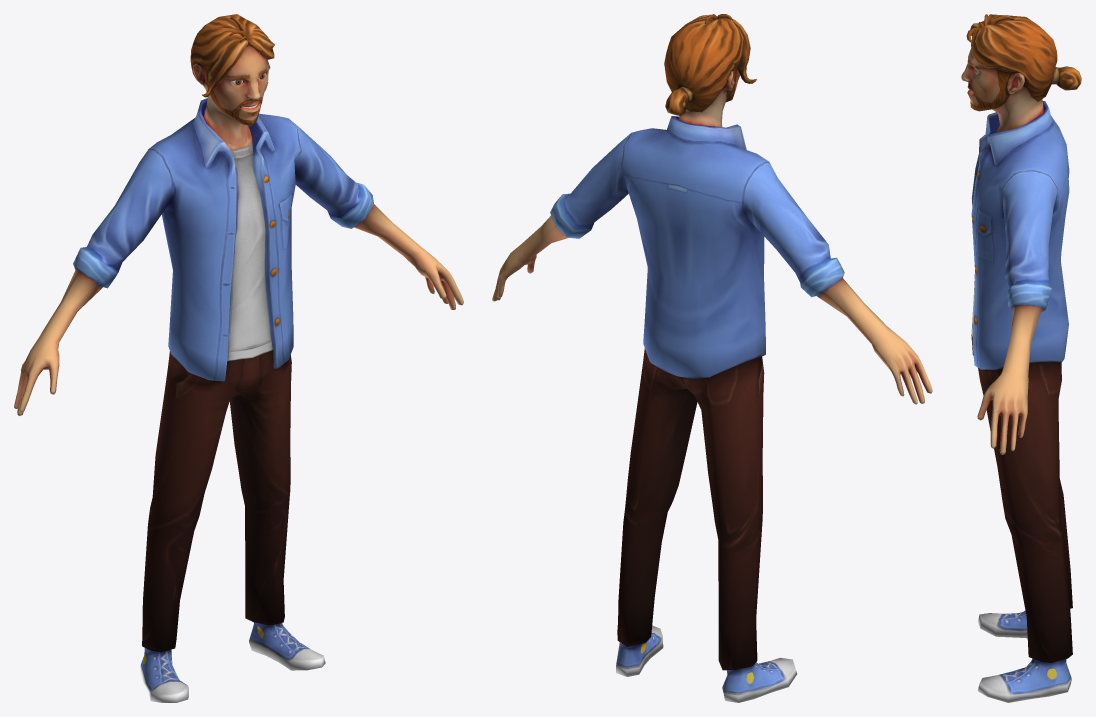
The model's file is body.glb.
3 renders of one model, left to right at view 1: azimuth 30°, elevation 25°; view 2: azimuth 150°, elevation 25°; view 3: azimuth 270°, elevation 25°, orthographic. The views are drawn at different scales.
Visible parts, largest first — view 1: Rupert.001; view 2: Rupert.001; view 3: Rupert.001.
Part boxes in pixels (left/top/right/bottom): Rupert.001: left=14, top=14, right=463, bottom=702; Rupert.001: left=492, top=14, right=932, bottom=702; Rupert.001: left=961, top=14, right=1081, bottom=702.
Bounding box in the file's own units: 1266 × 1808 × 305.
Materials: 1 (1 with a texture image).
